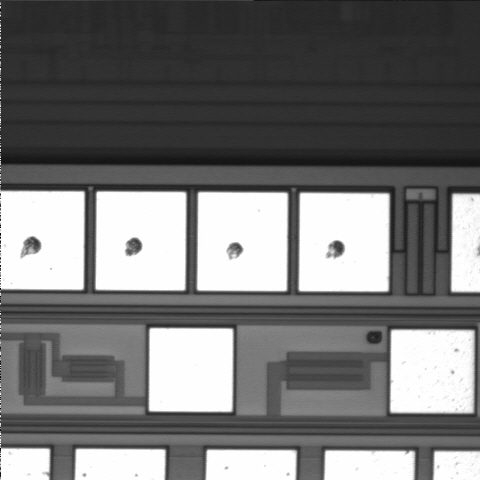pad: (197, 192, 288, 291), (96, 192, 186, 290), (299, 193, 389, 291), (149, 328, 233, 412), (390, 330, 474, 413)
